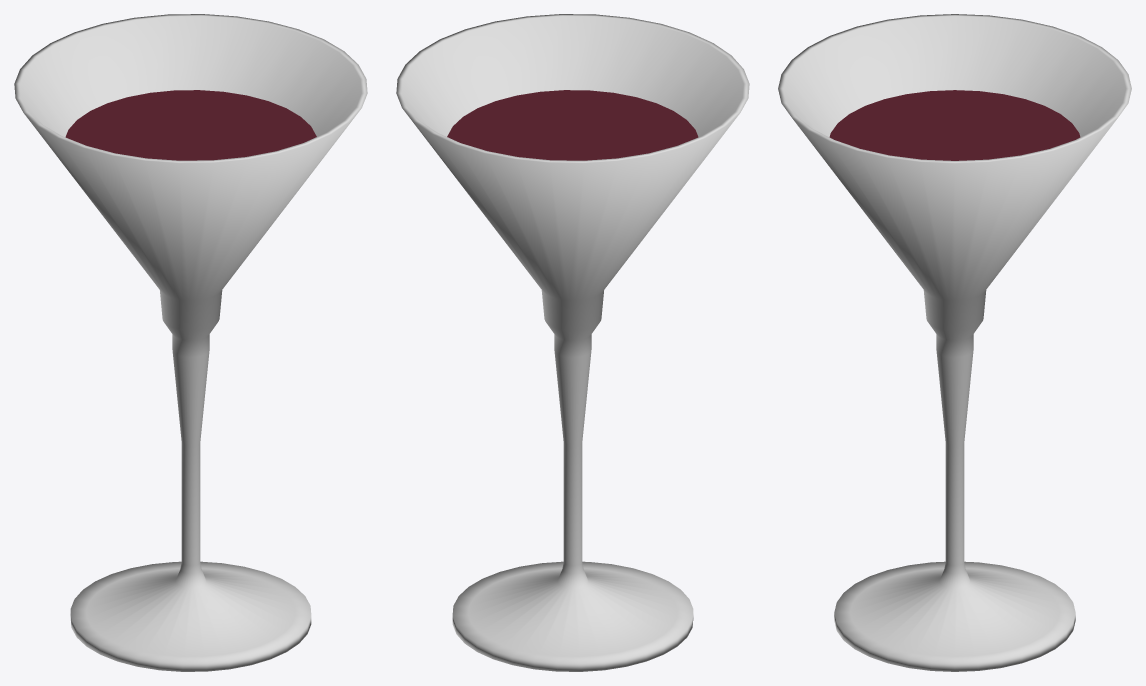
Rendered from Martini Glass.fbx.
The picture shows the model from 3 angles, left to right: view 1: azimuth 30°, elevation 25°; view 2: azimuth 150°, elevation 25°; view 3: azimuth 270°, elevation 25°; orthographic projection.
Parts seen in each view (by area): view 1: Cylinder.002; view 2: Cylinder.002; view 3: Cylinder.002.
Boxes of the visible parts, x1,y1,x2,y2 form: Cylinder.002: (14,14,367,671); Cylinder.002: (396,14,749,671); Cylinder.002: (778,14,1131,671).
Size of the model in its own units: 1149 by 1906 by 1149.
